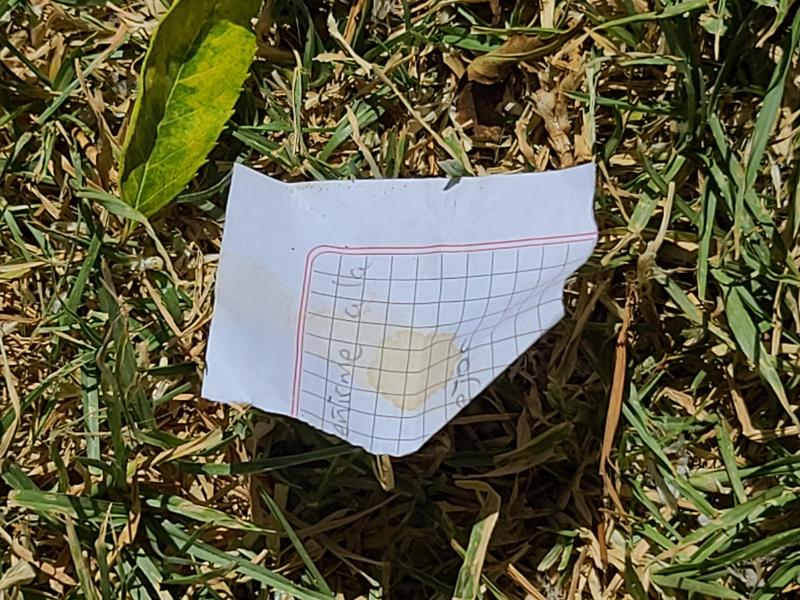papel: (201, 165, 598, 460)
